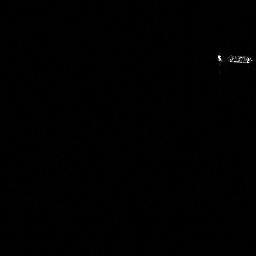ship: (216, 51, 253, 65)
